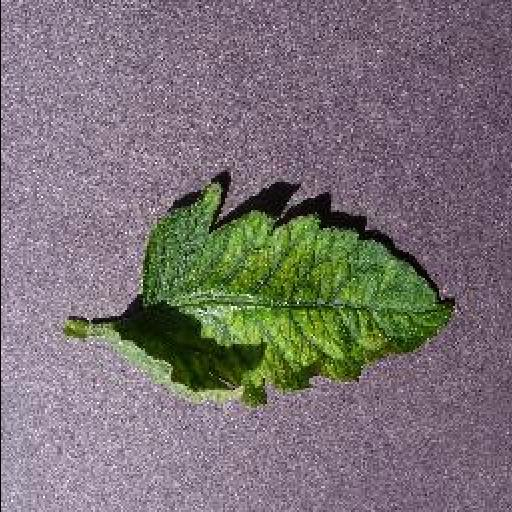disease_tomato: (112, 183, 458, 413)
